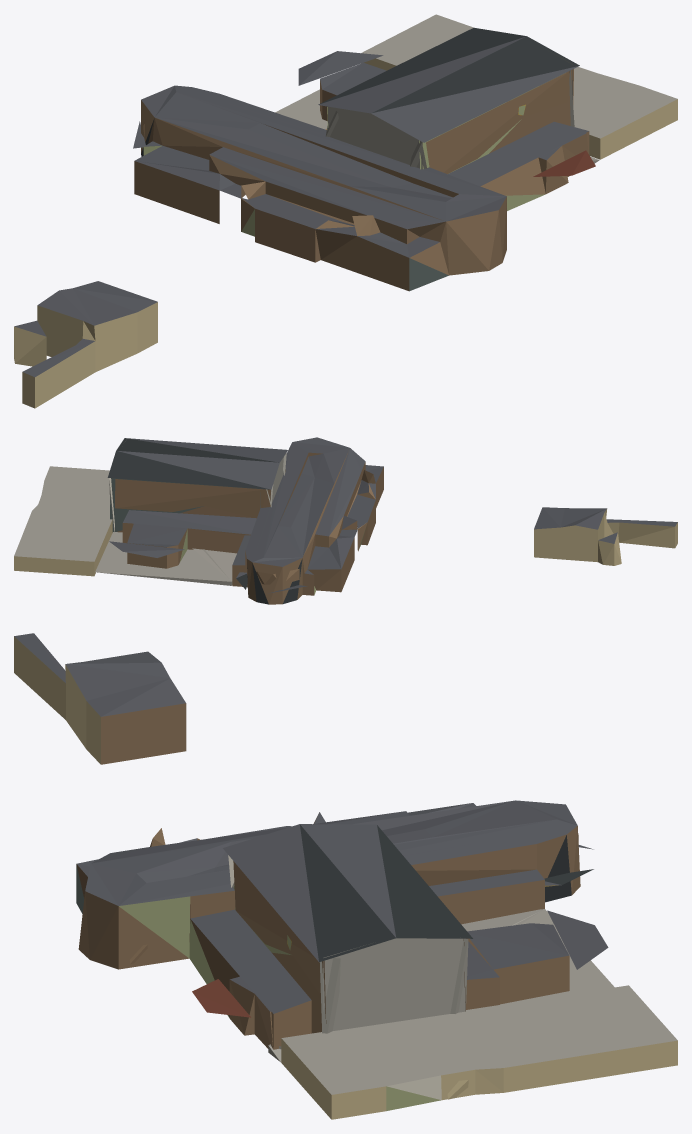
Rendered from amstelstation.lod2.glb.
3 views of the same model, one above another, from view 1: azimuth 30°, elevation 25°; view 2: azimuth 150°, elevation 25°; view 3: azimuth 270°, elevation 25° (orthographic). The views are drawn at different scales.
Parts seen in each view (by area): view 1: lod2; view 2: lod2; view 3: lod2.
Boxes of the visible parts, <box> form: lod2: <box>14,14,677,408</box>; lod2: <box>14,437,677,604</box>; lod2: <box>14,633,677,1119</box>.
Bounding box in the file's own units: 163 × 18.87 × 102.
